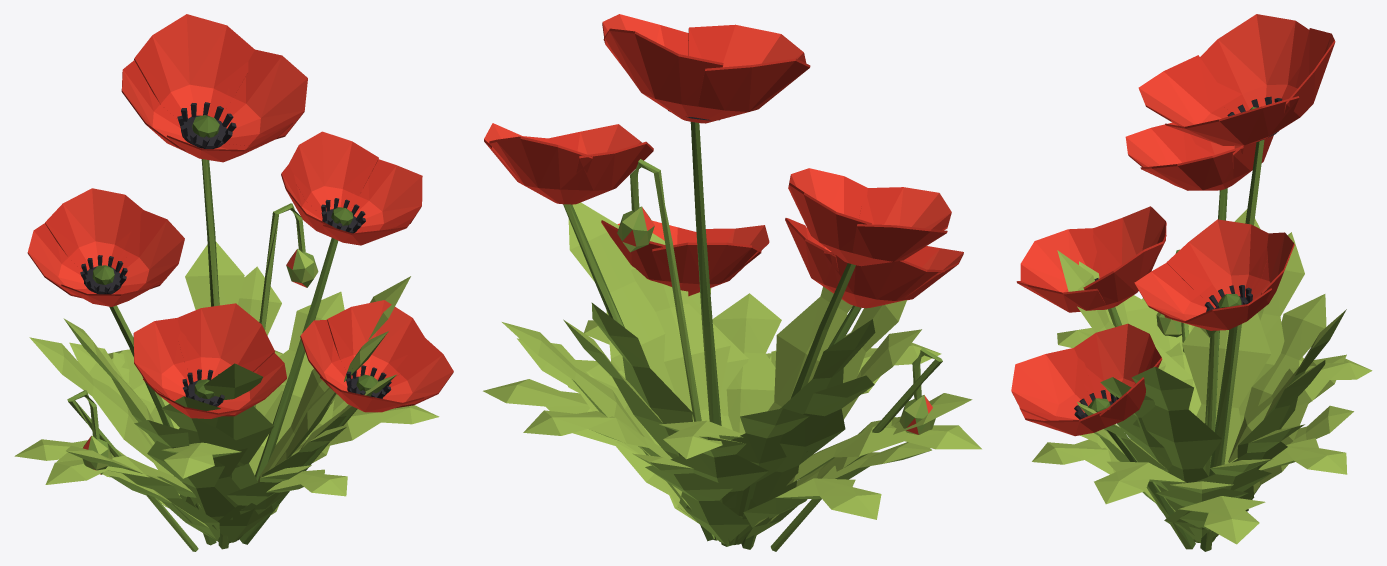
The model's file is FMS_Flower_Poppy.fbx.
The picture shows the model from 3 angles, left to right: view 1: azimuth 30°, elevation 25°; view 2: azimuth 150°, elevation 25°; view 3: azimuth 270°, elevation 25°; orthographic projection. The views are drawn at different scales.
Parts seen in each view (by area): view 1: FMS_Flower_Poppy; view 2: FMS_Flower_Poppy; view 3: FMS_Flower_Poppy.
Part boxes in pixels (bbox=[...]): FMS_Flower_Poppy: bbox=[14, 14, 453, 551]; FMS_Flower_Poppy: bbox=[483, 14, 981, 551]; FMS_Flower_Poppy: bbox=[1011, 14, 1372, 551].
Bounding box in the file's own units: 0.4354 × 0.5 × 0.3188.
